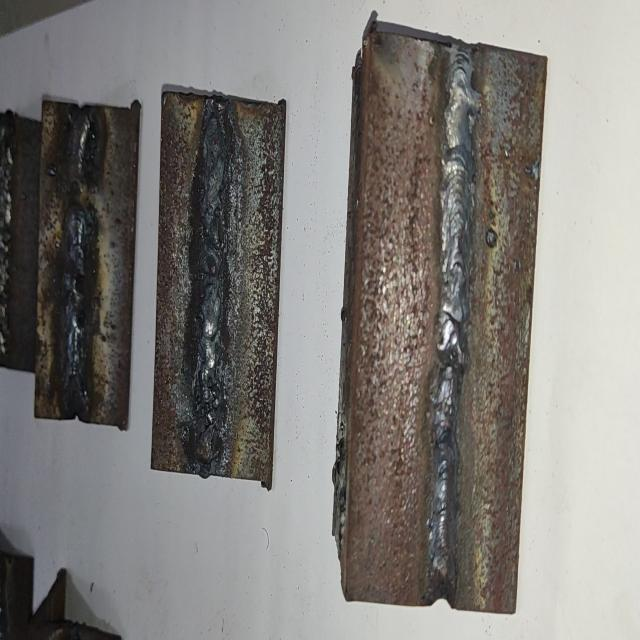Bad Weld: (199, 113, 227, 467), (66, 110, 94, 410)
Defect: (197, 171, 228, 464), (63, 297, 93, 416), (68, 155, 100, 228)
Good Weld: (432, 51, 478, 594), (0, 128, 13, 362)
